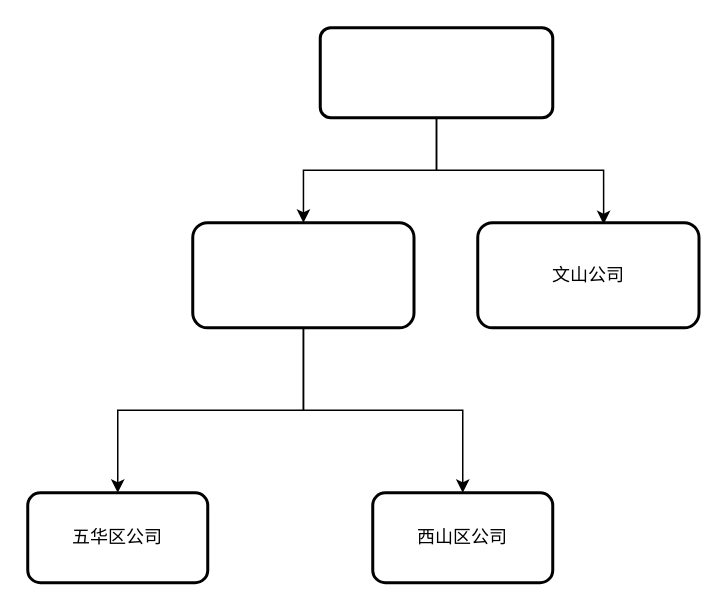
The diagram is 726 pixels wide and 609 high, and some of its shapes have lost their labels. Each missing label, with the box of its shape:
中国移动云南公司: (318, 26, 554, 118)
昆明公司: (190, 220, 415, 328)
